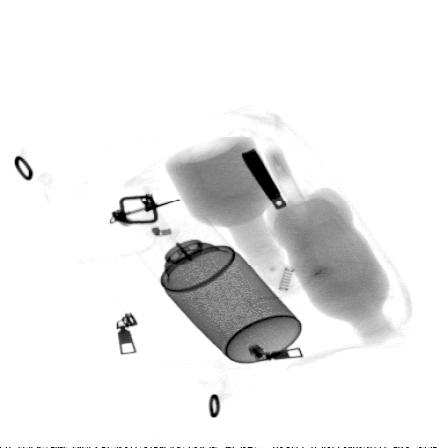Sprayer: (135, 214, 304, 366)
